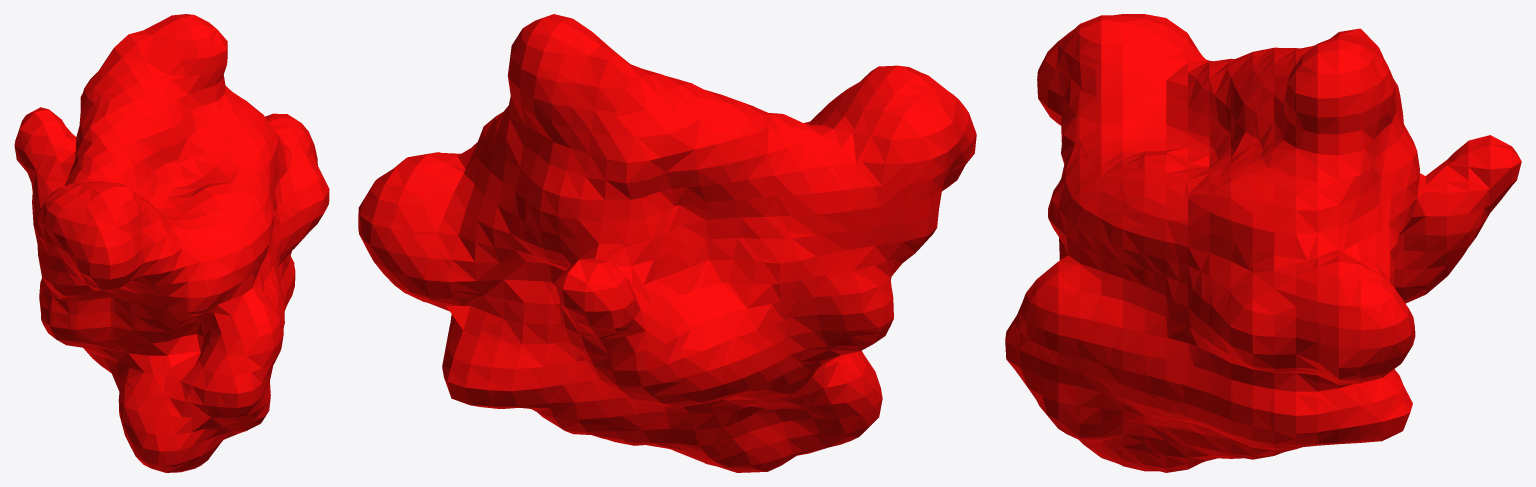
Rendered from rbsC_coarse.dae.
3 renders of one model, left to right at view 1: azimuth 30°, elevation 25°; view 2: azimuth 150°, elevation 25°; view 3: azimuth 270°, elevation 25°, orthographic. The views are drawn at different scales.
Parts seen in each view (by area): view 1: rbsC; view 2: rbsC; view 3: rbsC.
Part boxes in pixels (x1,y1,x2,y2): rbsC: [14, 14, 329, 472]; rbsC: [358, 14, 976, 472]; rbsC: [1005, 14, 1521, 472].
Size of the model in its own units: 63.18 by 63.63 by 62.81.
